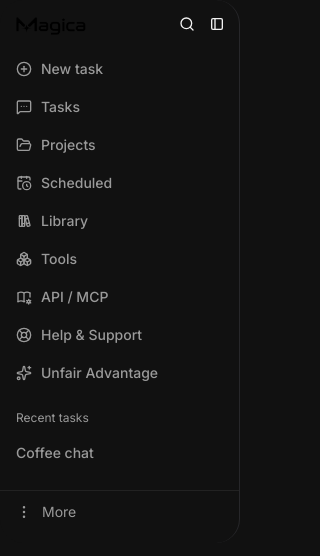
Scenario: Sidebar › collapses and expands recent tasks
The width and height of the screenshot is (320, 556).
Expected: the text "Coffee chat" is shown, [16,443,94,463]
Click the button "Recent tasks" at (60, 418), box [16,410,105,426]
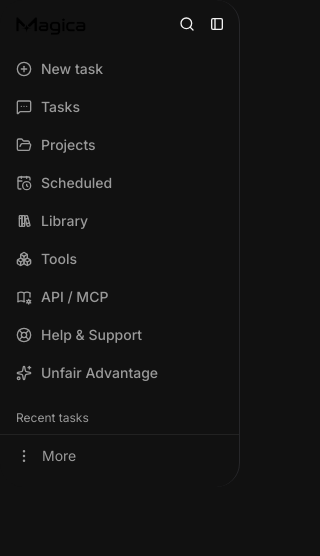
Result: the link "Coffee chat" is gone
Click the button "Recent tasks" at (60, 418), box [16,410,105,426]
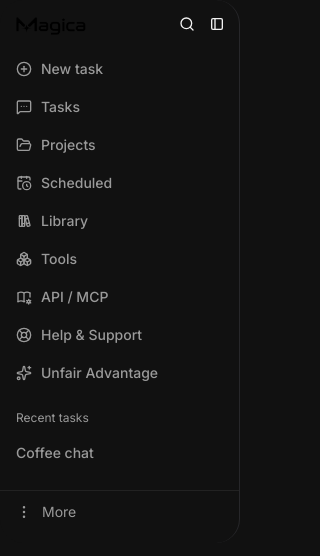
Result: the text "Coffee chat" is shown at [16,443,94,463]
